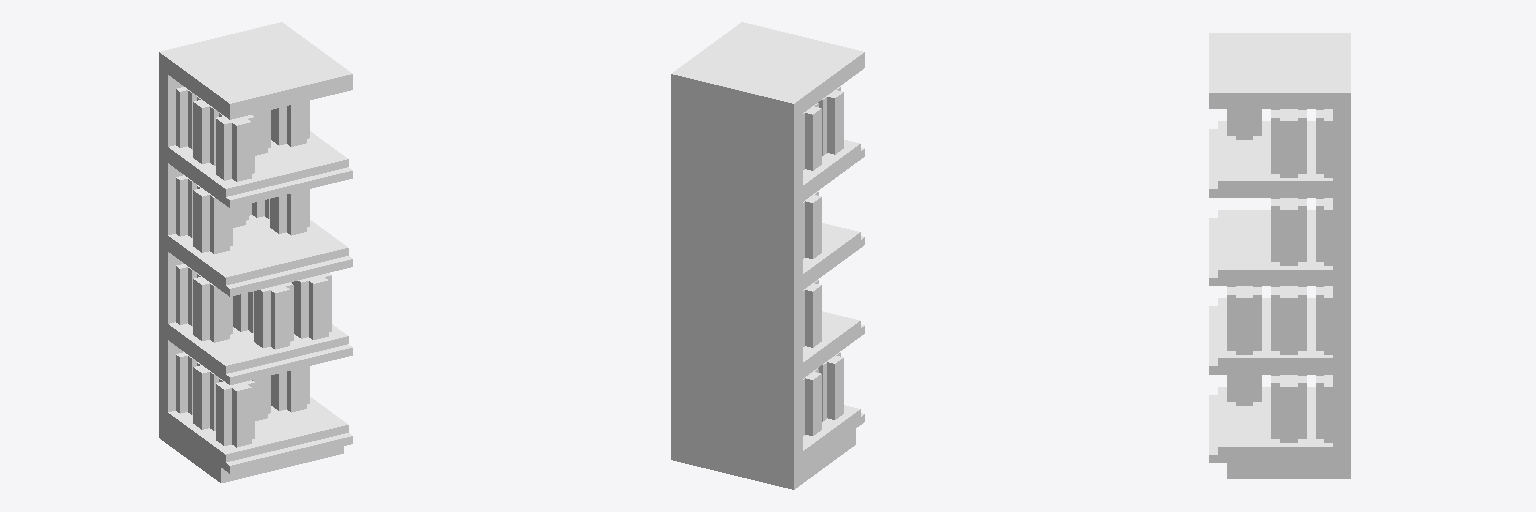
Rendered from fullBeansShelf1.obj.
3 views of the same model, side by side, from view 1: azimuth 30°, elevation 25°; view 2: azimuth 150°, elevation 25°; view 3: azimuth 270°, elevation 25° (orthographic).
Parts seen in each view (by area): view 1: object 1; view 2: object 1; view 3: object 1.
Boxes of the visible parts, box(x1,y1,x2,y2) form: object 1: box(159, 22, 352, 482); object 1: box(671, 22, 864, 489); object 1: box(1209, 33, 1350, 478).
Bounding box in the file's own units: 1.6 × 4.8 × 1.6.